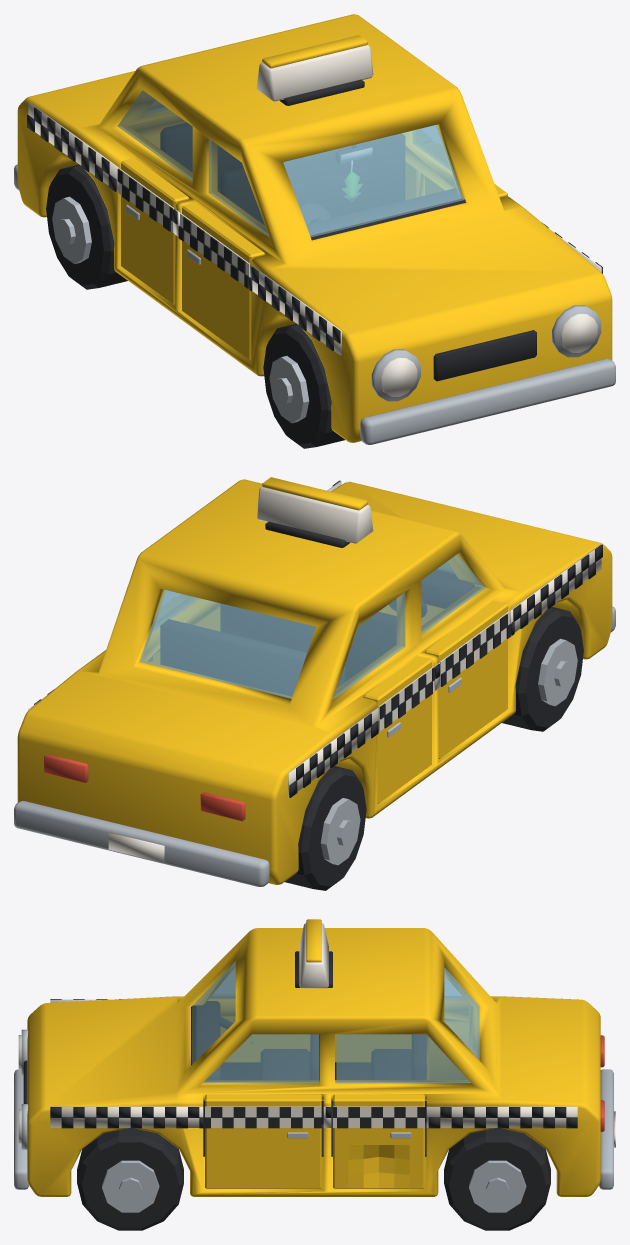
Rendered from low-poly-taxi-cab.glb.
3 views of the same model, one above another, from view 1: azimuth 30°, elevation 25°; view 2: azimuth 150°, elevation 25°; view 3: azimuth 270°, elevation 25° (orthographic). The views are drawn at different scales.
Parts seen in each view (by area): view 1: Body, Windows, Door_FrontRight, Door_RearRight, Wheel_FrontRight, Wheel_RearRight, Door_FrontRight_Trim, Wheel_FrontRight_Hub, Wheel_RearRight_Hub, Door_RearRight_Trim; view 2: Body, Windows, Door_FrontRight, Door_RearRight, Wheel_RearRight, Wheel_FrontRight, Door_FrontRight_Trim, Wheel_RearRight_Hub, Wheel_FrontRight_Hub, Door_RearRight_Trim; view 3: Body, Windows, Door_FrontLeft, Door_RearLeft, Wheel_RearLeft, Wheel_FrontLeft, Door_FrontLeft_Trim, Wheel_FrontLeft_Hub, Wheel_RearLeft_Hub, Door_RearLeft_Trim, Door_RearRight, Door_FrontRight.
Part boxes in pixels (<box>): Body: <box>14,14,615,444</box>; Windows: <box>117,90,463,237</box>; Door_FrontRight: <box>182,202,264,360</box>; Door_RearRight: <box>121,158,188,305</box>; Wheel_FrontRight: <box>263,323,344,448</box>; Wheel_RearRight: <box>46,164,127,289</box>; Door_FrontRight_Trim: <box>178,213,249,288</box>; Wheel_FrontRight_Hub: <box>269,356,309,423</box>; Wheel_RearRight_Hub: <box>52,196,91,264</box>; Door_RearRight_Trim: <box>117,168,174,232</box>; Body: <box>14,477,615,886</box>; Windows: <box>140,554,485,699</box>; Door_FrontRight: <box>425,601,507,758</box>; Door_RearRight: <box>364,656,431,803</box>; Wheel_RearRight: <box>285,766,366,890</box>; Wheel_FrontRight: <box>502,607,583,731</box>; Door_FrontRight_Trim: <box>440,611,511,692</box>; Wheel_RearRight_Hub: <box>320,798,360,865</box>; Wheel_FrontRight_Hub: <box>538,638,577,706</box>; Door_RearRight_Trim: <box>378,667,435,737</box>; Body: <box>14,919,615,1196</box>; Windows: <box>192,961,479,1083</box>; Door_FrontLeft: <box>205,1094,321,1188</box>; Door_RearLeft: <box>333,1094,424,1188</box>; Wheel_RearLeft: <box>444,1128,550,1230</box>; Wheel_FrontLeft: <box>77,1128,183,1230</box>; Door_FrontLeft_Trim: <box>205,1106,321,1138</box>; Wheel_FrontLeft_Hub: <box>102,1160,159,1212</box>; Wheel_RearLeft_Hub: <box>469,1160,526,1212</box>; Door_RearLeft_Trim: <box>333,1106,424,1138</box>; Door_RearRight: <box>335,1034,411,1062</box>; Door_FrontRight: <box>220,1016,309,1061</box>.
Size of the model in its own units: 7.24 by 6.91 by 15.75.
